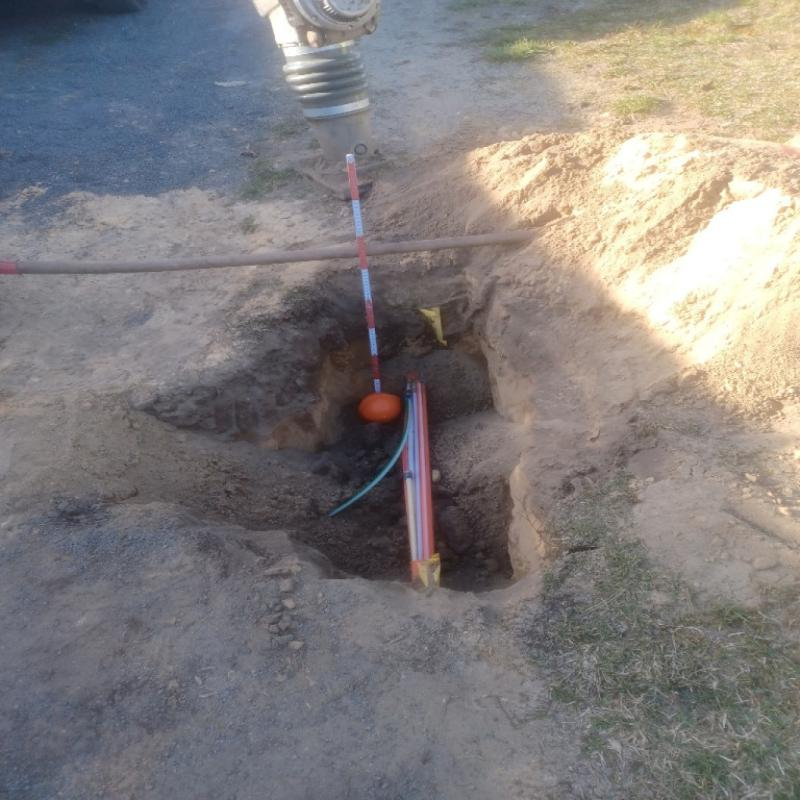Kugelmarker: (357, 393, 400, 423)
Orang-Speednetrohrchen: (405, 382, 441, 583)
